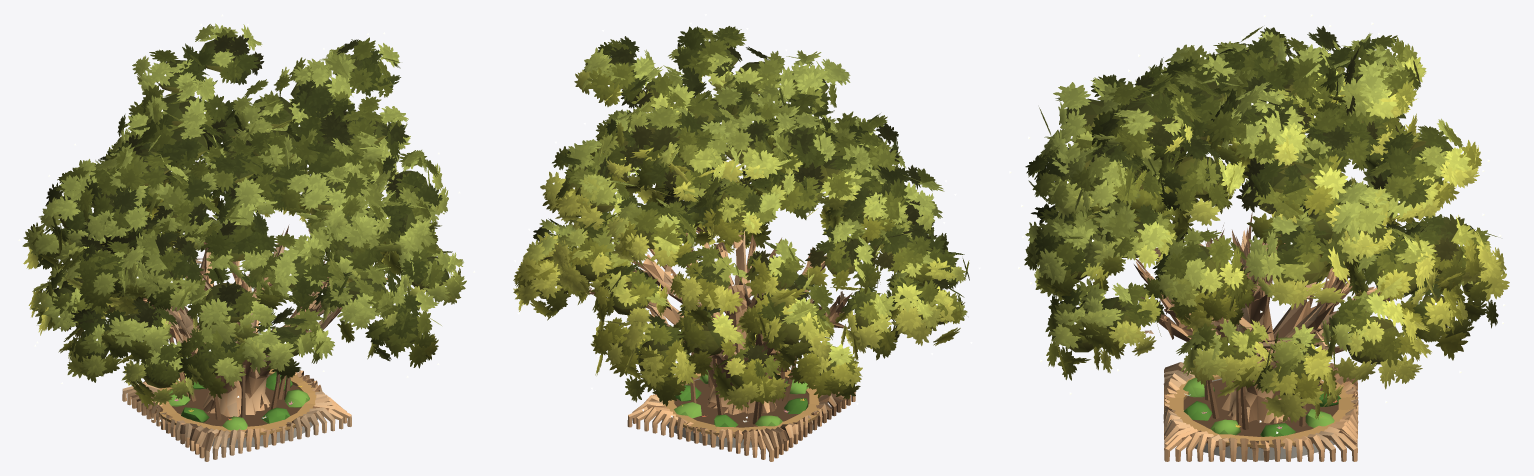
The model's file is tree_banyan.glb.
The picture shows the model from 3 angles, left to right: view 1: azimuth 30°, elevation 25°; view 2: azimuth 150°, elevation 25°; view 3: azimuth 270°, elevation 25°; orthographic projection. The views are drawn at different scales.
Visible parts, largest first — view 1: canopy, body; view 2: canopy, body; view 3: canopy, body.
Part boxes in pixels (x1=…): canopy: x1=22, y1=23, x2=466, y2=408; body: x1=122, y1=225, x2=387, y2=461; canopy: x1=513, y1=26, x2=969, y2=410; body: x1=586, y1=226, x2=855, y2=461; canopy: x1=1024, y1=26, x2=1509, y2=422; body: x1=1134, y1=212, x2=1394, y2=461.
Size of the model in its own units: 14.33 by 11.49 by 13.37.
4 materials, 1 textured.
